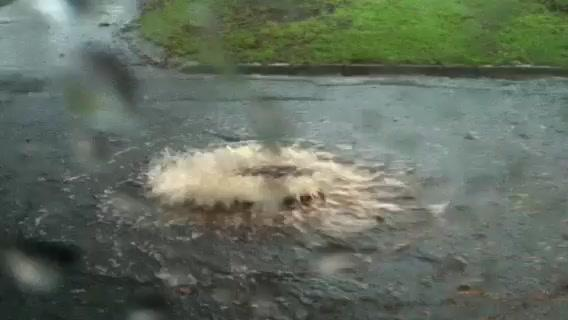drainage overflow-repair-: (98, 125, 412, 261)
